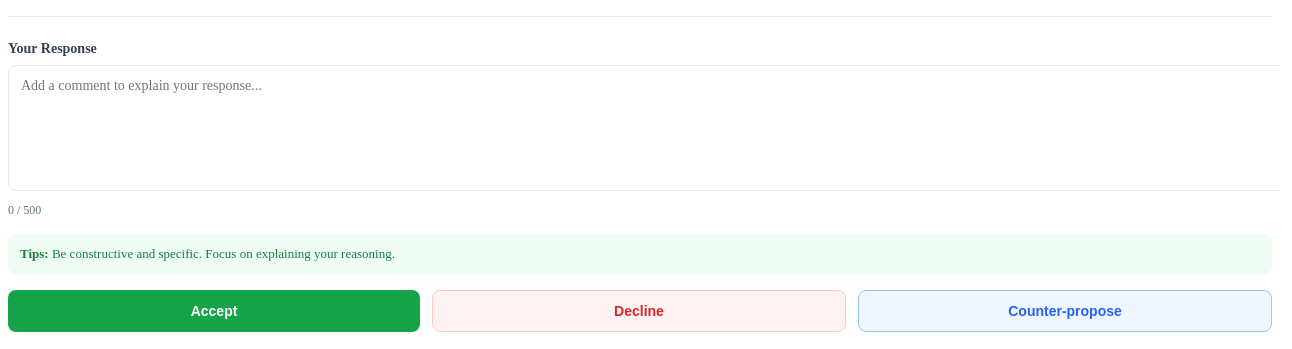
Test: ProposalResponseForm - Story 34.3 › comment textarea - AC4 › should update character count as user types
This screenshot has width=1292, height=349.
Type "Hello" into the text box at (644, 128), box [8,65,1280,191]
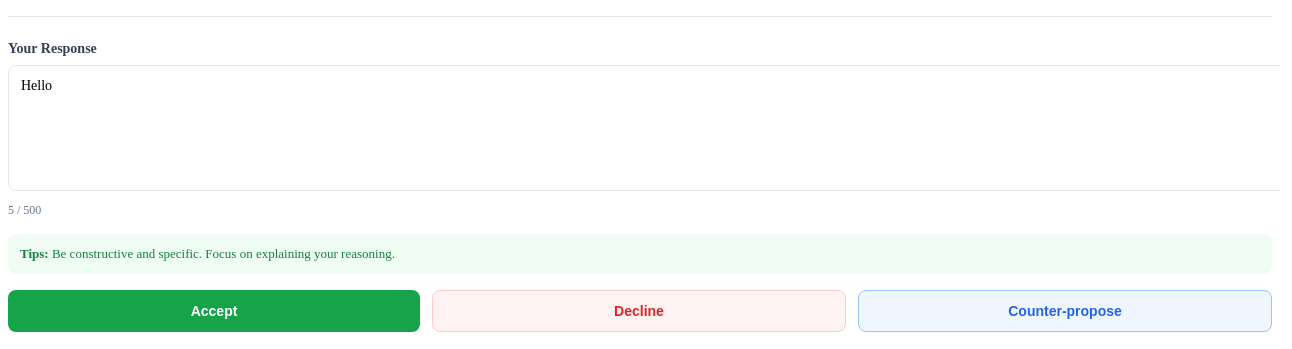
Now the text "5 / 500" is shown, box [8,203,41,218]
